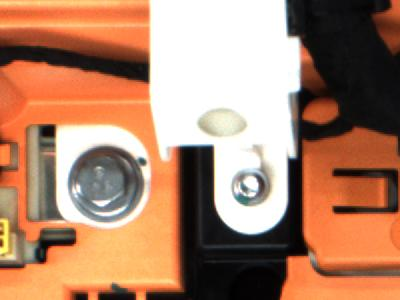nut_b: (68, 145, 145, 215)
screw_m: (230, 164, 271, 210)
